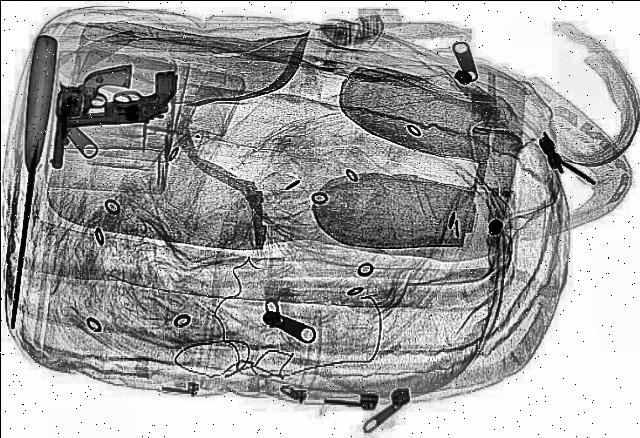Gun: (46, 63, 132, 171), (44, 70, 184, 130)
Knife: (0, 35, 58, 324)
